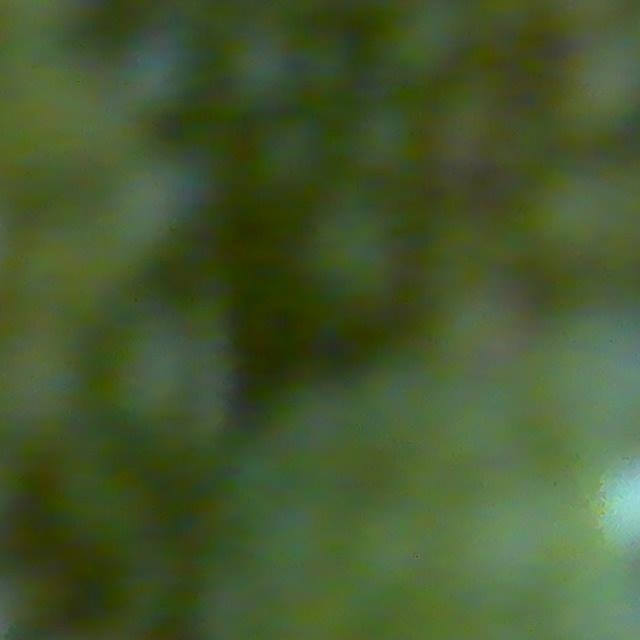SeaGrape: (302, 199, 406, 308), (555, 27, 640, 141), (113, 27, 204, 118), (222, 26, 307, 114), (345, 100, 430, 185), (250, 113, 334, 196)
